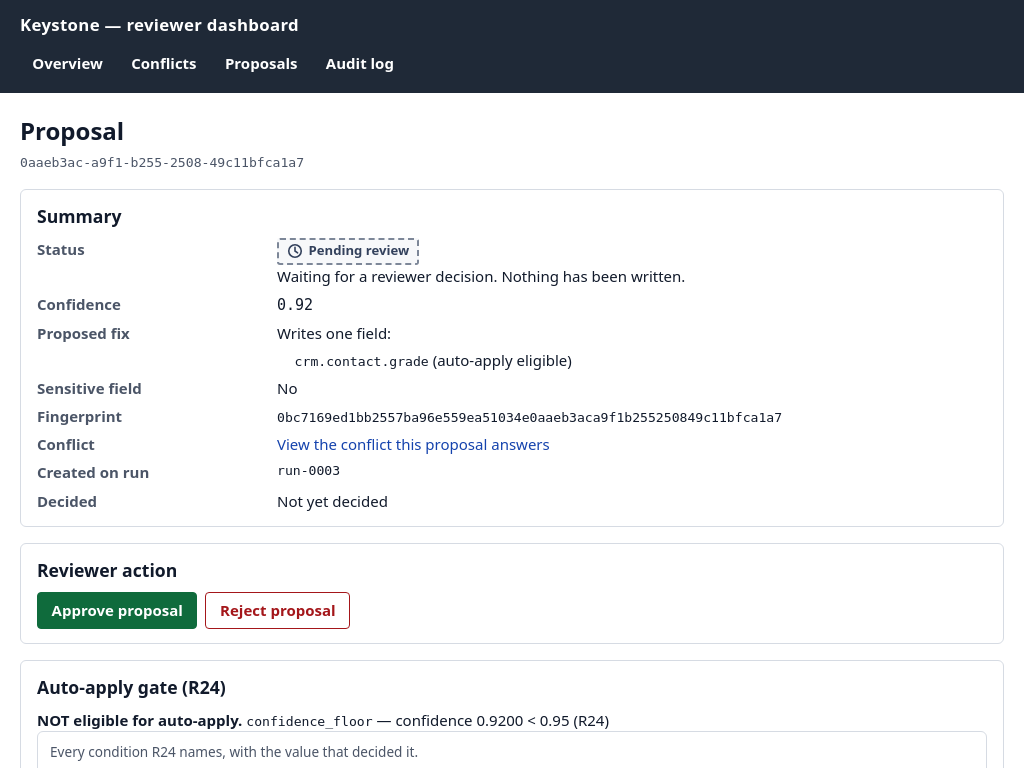
Test: /proposals/:id — approve and reject › rejects a proposal and reads the rejection back
Click the button "Reject proposal": (278, 610) x1=206 y1=592 x2=350 y2=629
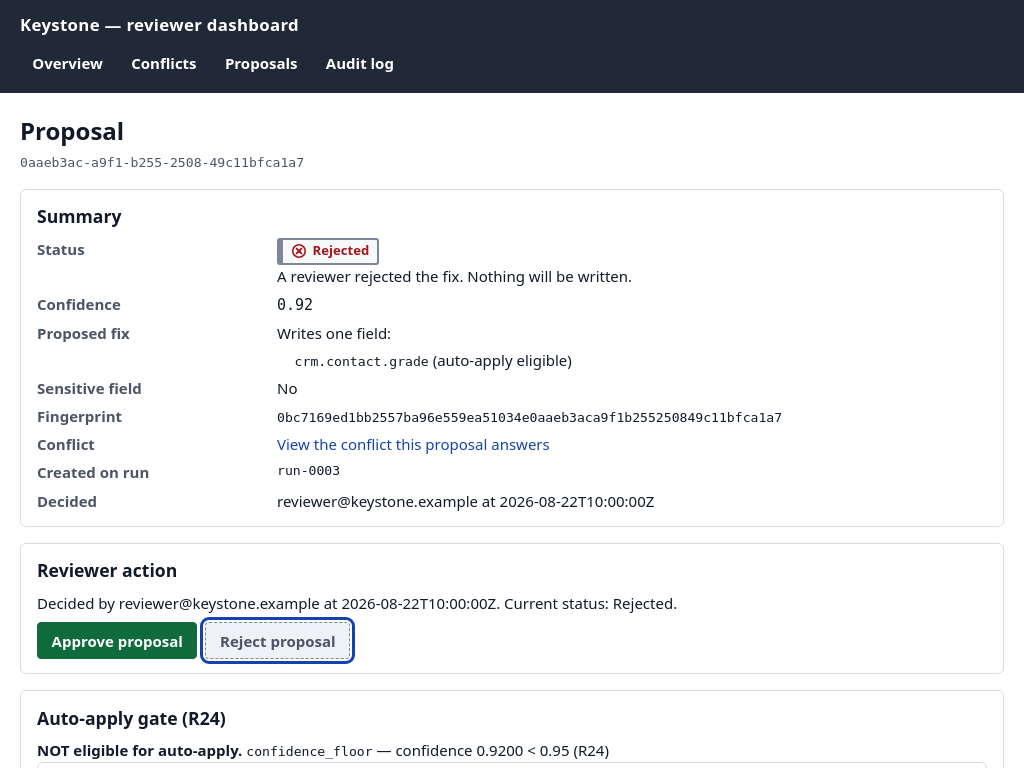
Result: the text "Rejected" is shown at x1=313 y1=242 x2=369 y2=261
